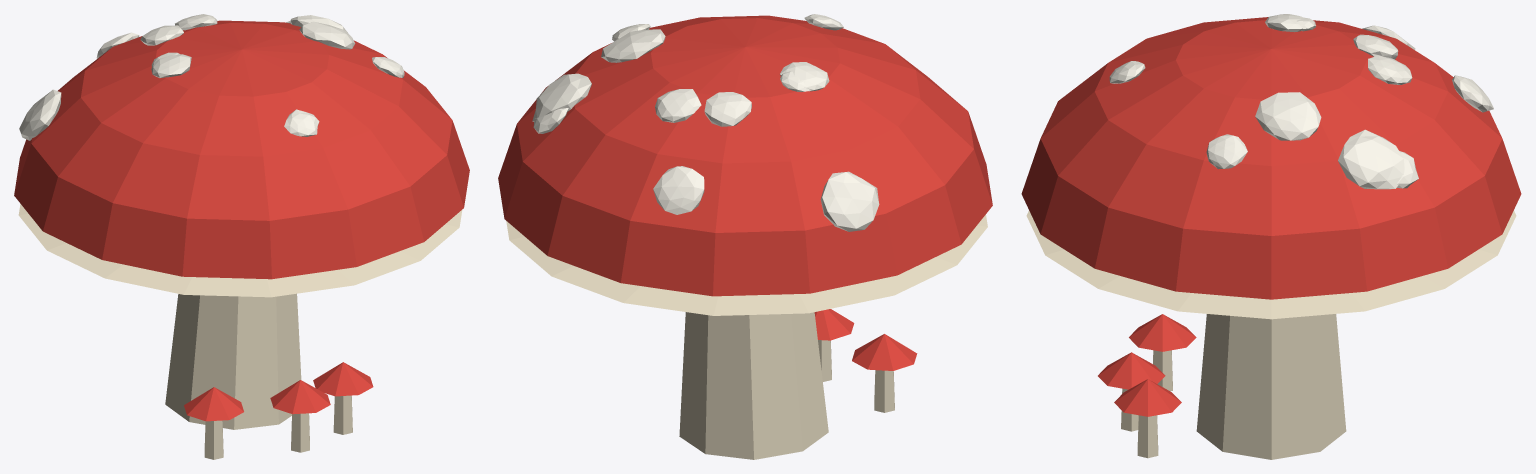
File: seta_gigante.glb
The picture shows the model from 3 angles, left to right: view 1: azimuth 30°, elevation 25°; view 2: azimuth 150°, elevation 25°; view 3: azimuth 270°, elevation 25°; orthographic projection. The views are drawn at different scales.
Parts seen in each view (by area): view 1: seta_gigante_seta_roja, seta_gigante_seta_crema, seta_gigante_petalo_blanco; view 2: seta_gigante_seta_roja, seta_gigante_seta_crema, seta_gigante_petalo_blanco; view 3: seta_gigante_seta_roja, seta_gigante_seta_crema, seta_gigante_petalo_blanco.
Part boxes in pixels (x1=…): seta_gigante_seta_roja: x1=14, y1=20, x2=469, y2=421; seta_gigante_seta_crema: x1=18, y1=204, x2=462, y2=459; seta_gigante_petalo_blanco: x1=19, y1=14, x2=404, y2=140; seta_gigante_seta_roja: x1=498, y1=15, x2=992, y2=370; seta_gigante_seta_crema: x1=506, y1=214, x2=987, y2=459; seta_gigante_petalo_blanco: x1=532, y1=14, x2=879, y2=231; seta_gigante_seta_roja: x1=1021, y1=17, x2=1521, y2=416; seta_gigante_seta_crema: x1=1026, y1=210, x2=1516, y2=459; seta_gigante_petalo_blanco: x1=1109, y1=14, x2=1493, y2=189.
Size of the model in its own units: 2.5 by 2.12 by 2.5.
